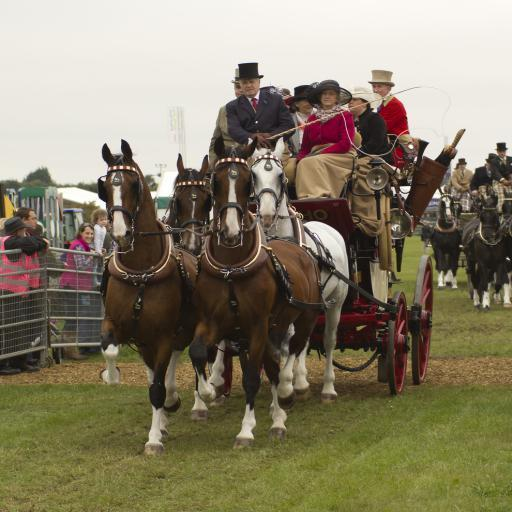horse: (186, 134, 324, 450), (98, 137, 200, 457), (246, 135, 350, 416), (166, 151, 230, 422), (462, 194, 512, 312), (428, 186, 464, 292)
